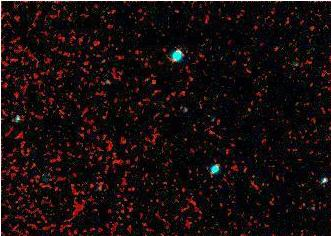star: (91, 46, 121, 76)
